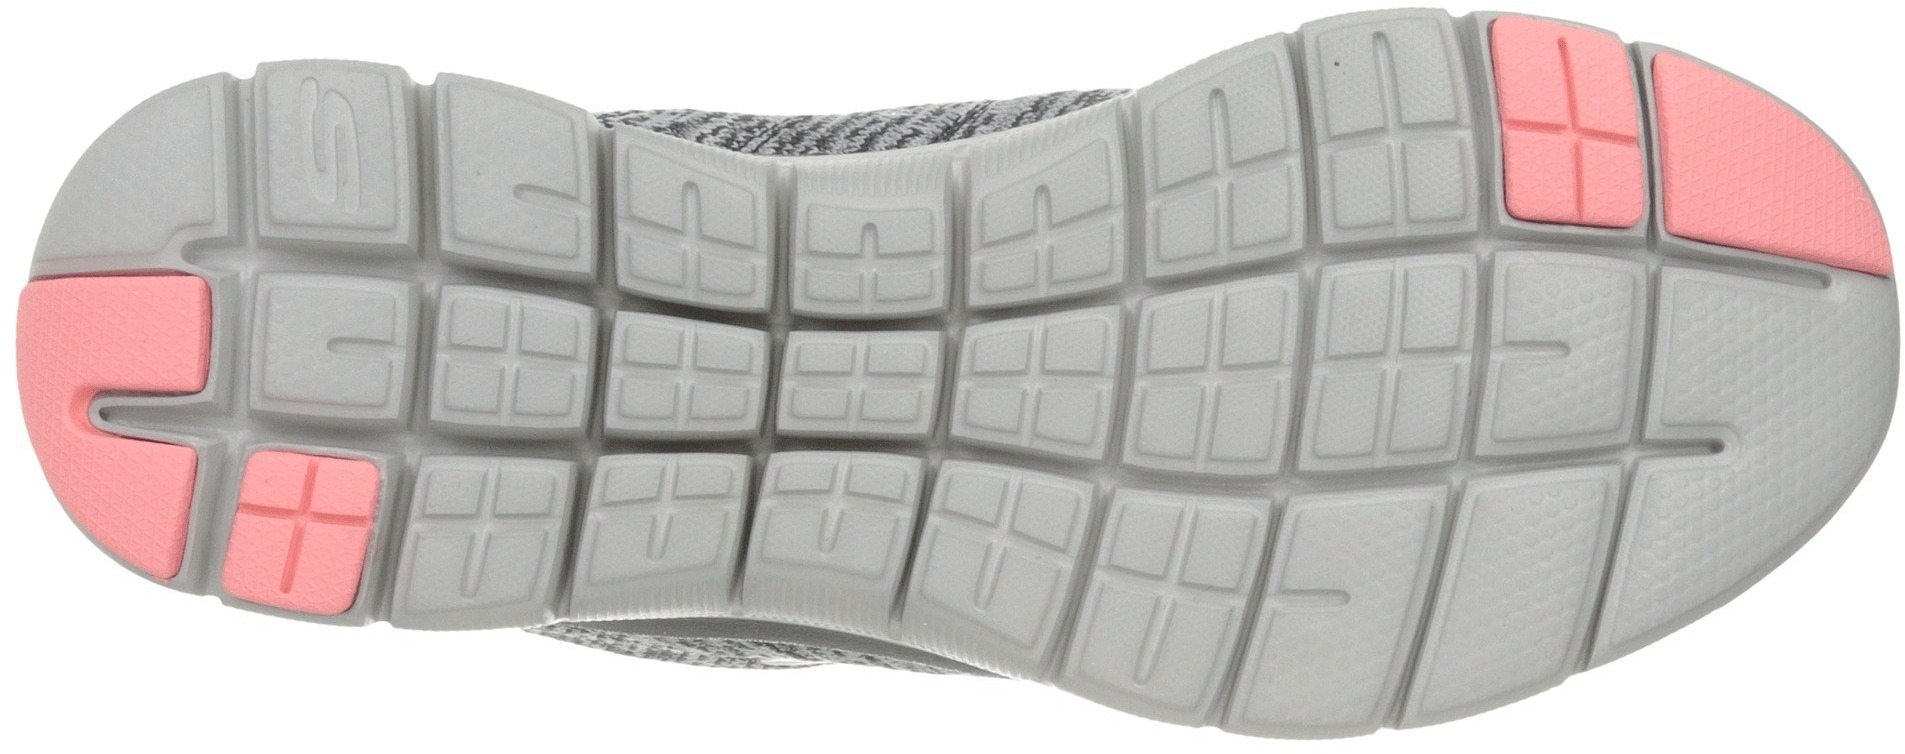other: (1677, 100, 1797, 227)
quad: (214, 444, 396, 612), (1129, 310, 1301, 480), (1315, 288, 1469, 454), (446, 304, 594, 430), (970, 319, 1110, 443), (631, 331, 748, 438), (790, 333, 914, 431)
